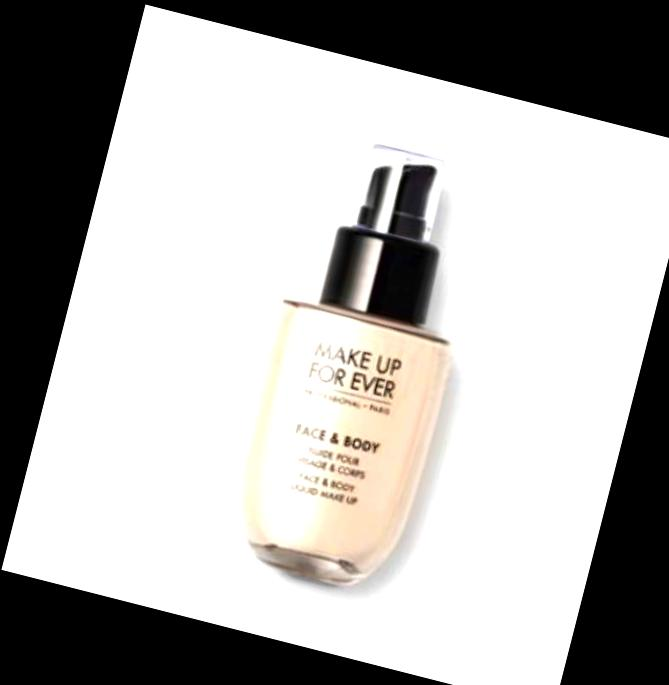cosmetic: (215, 127, 501, 602)
